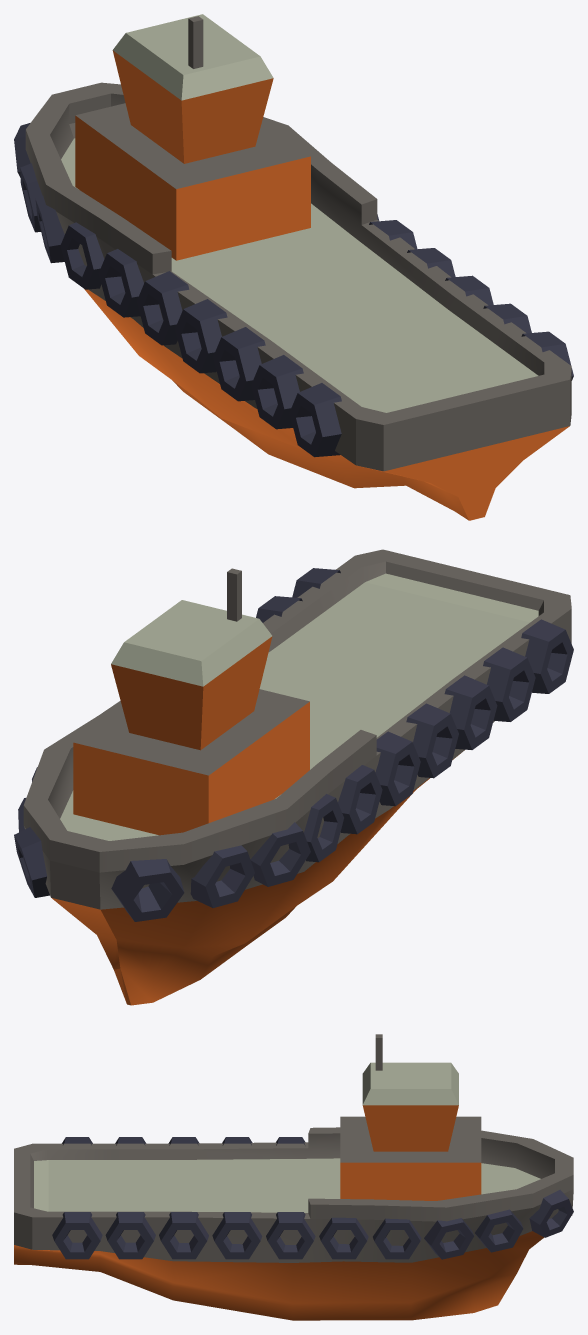
Rendered from Tugboat.FBX.
3 renders of one model, top to bottom at view 1: azimuth 30°, elevation 25°; view 2: azimuth 150°, elevation 25°; view 3: azimuth 270°, elevation 25°, orthographic. The views are drawn at different scales.
Parts seen in each view (by area): view 1: Tugboat; view 2: Tugboat; view 3: Tugboat.
Boxes of the visible parts, x1,y1,x2,y2 form: Tugboat: (14, 14, 573, 520); Tugboat: (14, 549, 573, 1005); Tugboat: (14, 1034, 573, 1320).
Bounding box in the file's own units: 20.31 × 28.88 × 53.4.
